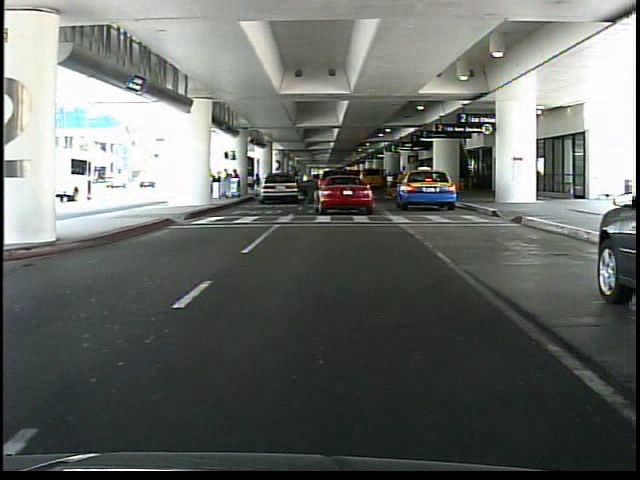person: (290, 165, 304, 202)
